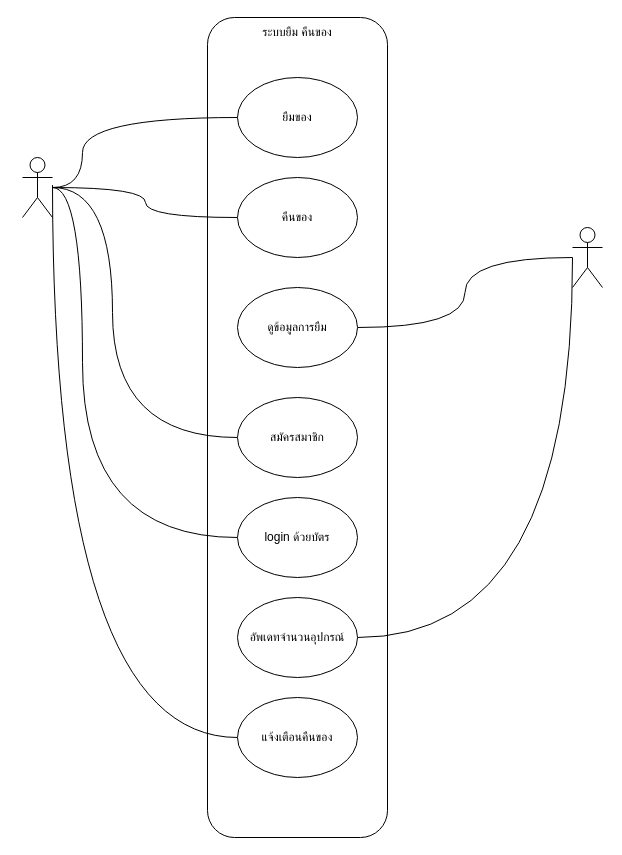
The diagram is 622 pixels wide and 855 high, and some of its shapes have lost their labels. The shapes that lost their labels are listed below. From the top down, each one's box as (x1, y1, x2, y2) in pixels, then its label:
(22, 156, 52, 218): Student
(572, 226, 602, 288): Admin
